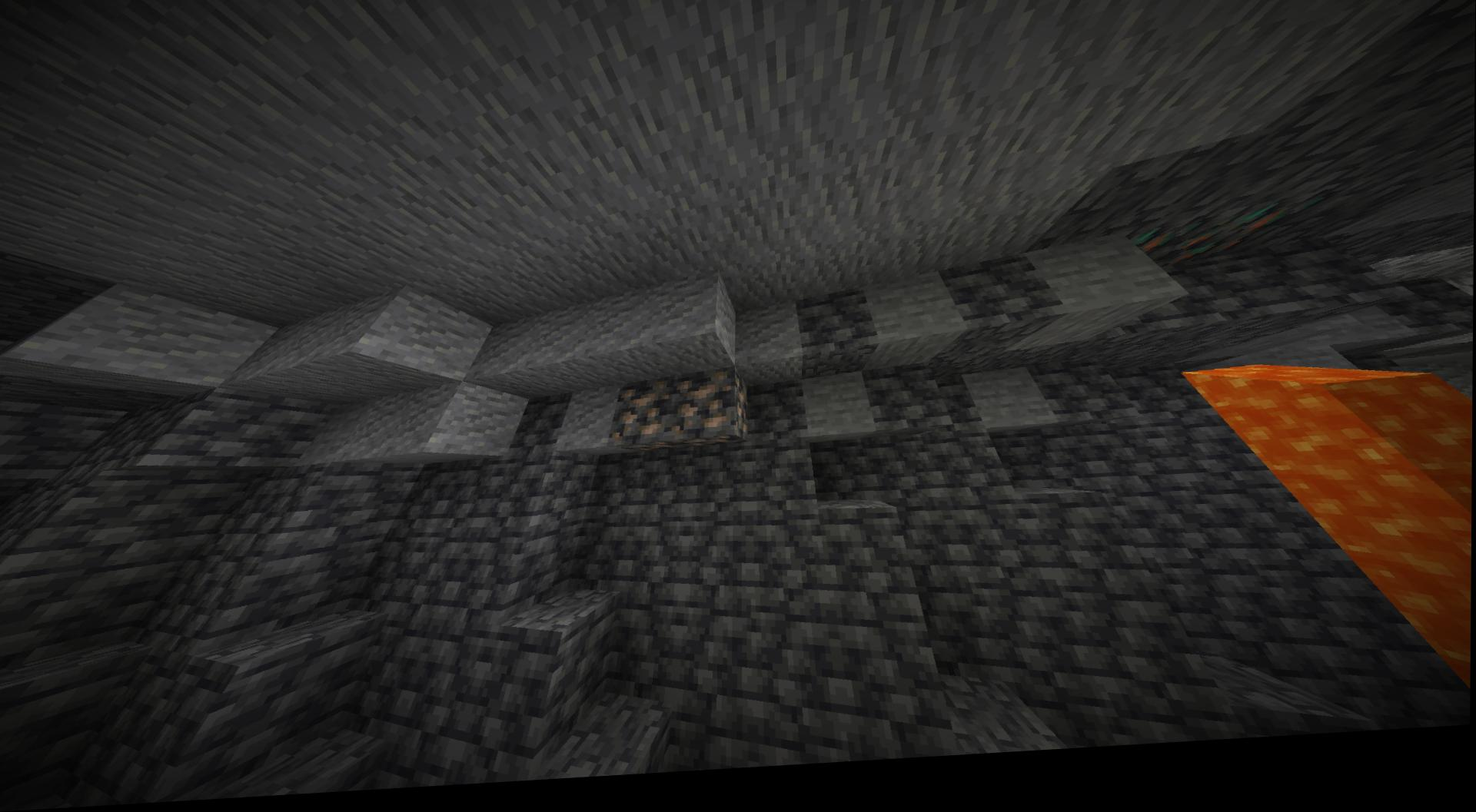iron ore: (676, 380, 752, 453), (610, 389, 670, 453)
